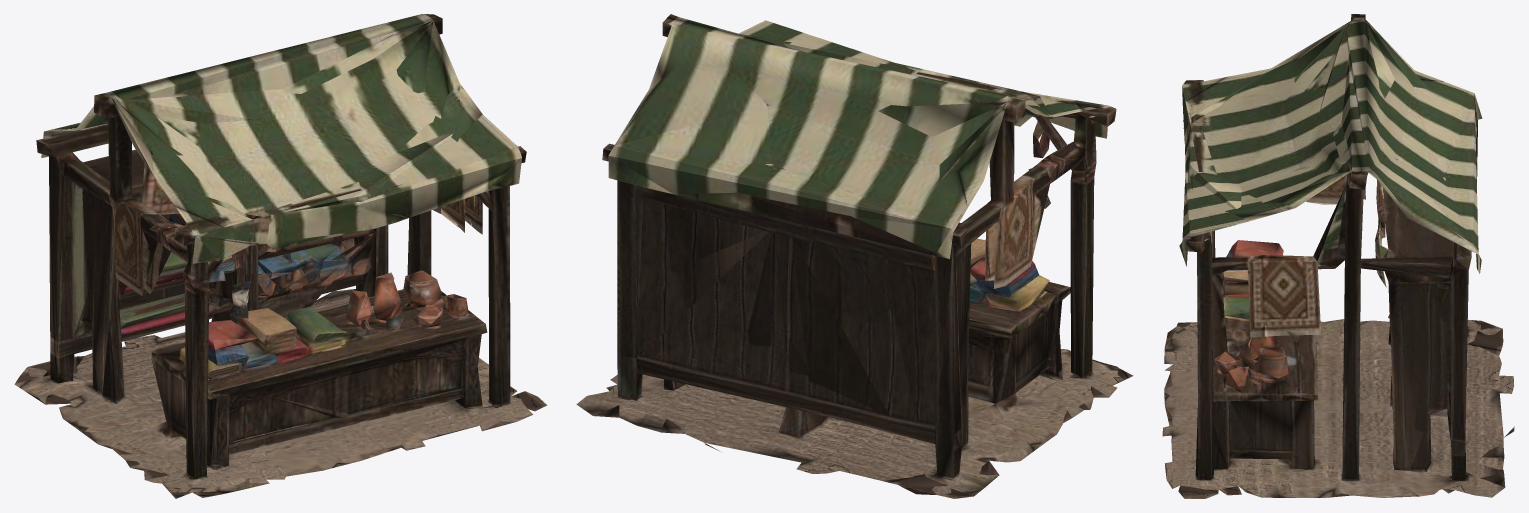
Rendered from stall_cloth_lod0.glb.
3 views of the same model, side by side, from view 1: azimuth 30°, elevation 25°; view 2: azimuth 150°, elevation 25°; view 3: azimuth 270°, elevation 25° (orthographic). The views are drawn at different scales.
Parts seen in each view (by area): view 1: output_unwrapped; view 2: output_unwrapped; view 3: output_unwrapped.
Part boxes in pixels (bbox=[...]): output_unwrapped: bbox=[14, 14, 547, 498]; output_unwrapped: bbox=[576, 14, 1133, 498]; output_unwrapped: bbox=[1162, 14, 1514, 498].
Size of the model in its own units: 1.9 by 1.57 by 1.58.
Materials: 1 (1 with a texture image).
